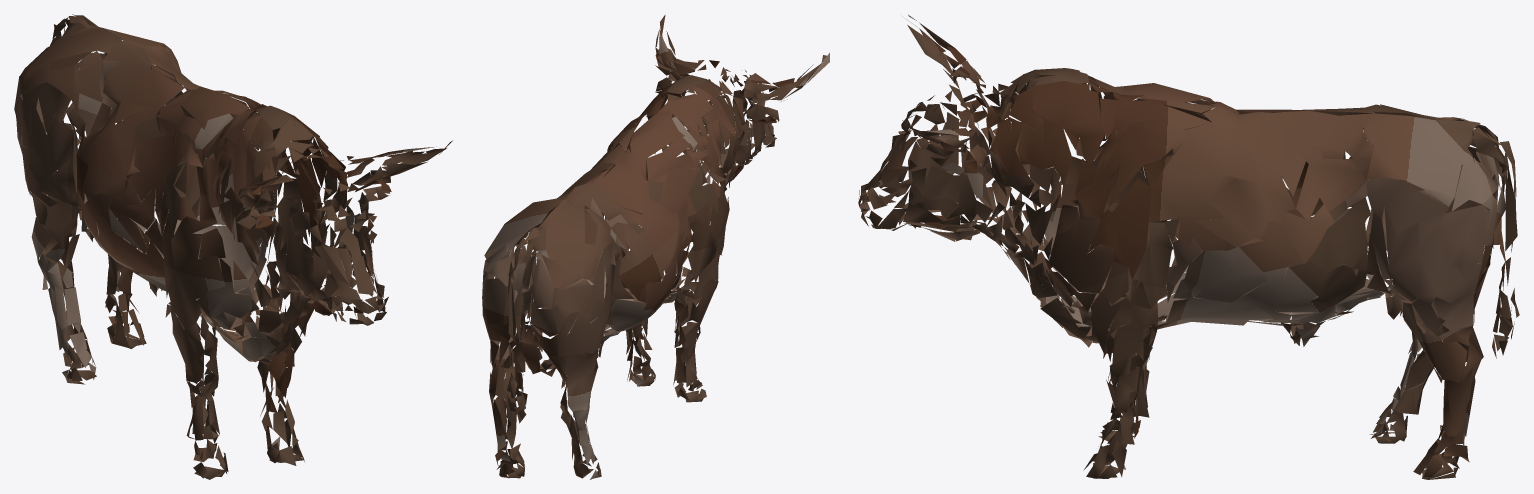
Rendered from bull.glb.
3 views of the same model, side by side, from view 1: azimuth 30°, elevation 25°; view 2: azimuth 150°, elevation 25°; view 3: azimuth 270°, elevation 25° (orthographic). The views are drawn at different scales.
Parts seen in each view (by area): view 1: LO.001; view 2: LO.001; view 3: LO.001.
Boxes of the visible parts, x1=… form: LO.001: x1=14, y1=14, x2=452, y2=479; LO.001: x1=482, y1=14, x2=829, y2=479; LO.001: x1=858, y1=14, x2=1519, y2=479.
Bounding box in the file's own units: 0.7294 × 1.24 × 1.9.
1 material, 1 textured.
